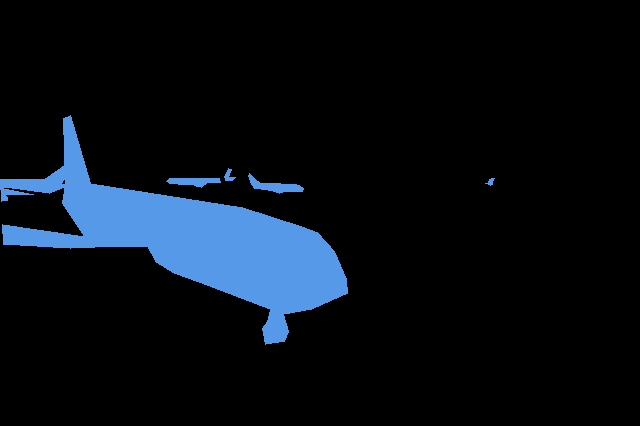Airplane: (2, 115, 347, 344), (0, 162, 69, 201), (166, 168, 236, 187), (248, 173, 303, 193), (485, 178, 494, 186)
